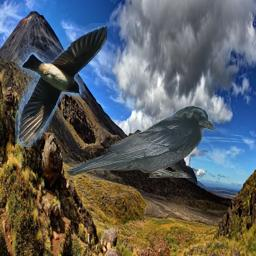Crow: (65, 105, 215, 178)
Swallow: (15, 23, 107, 147)
